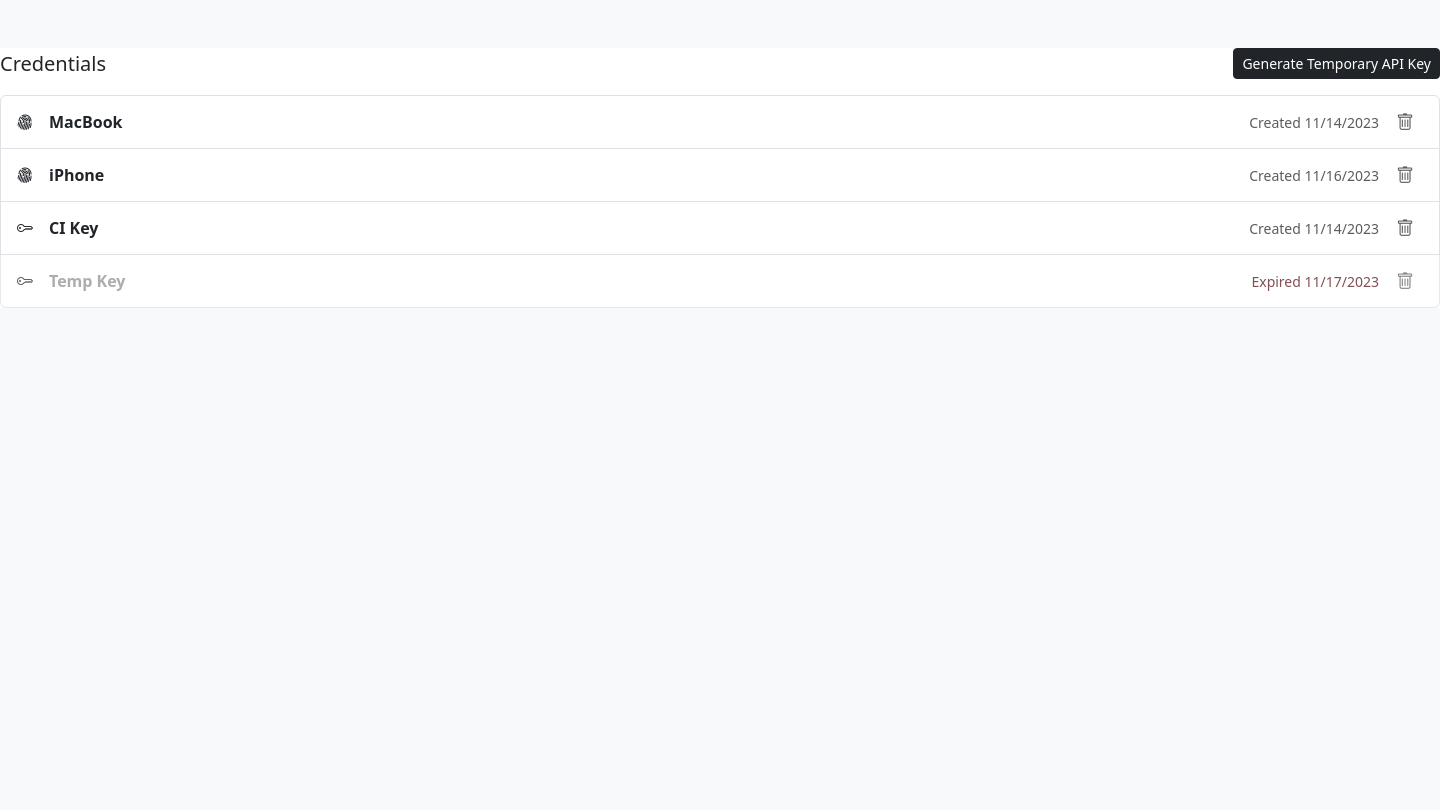
Test: AdminCredentialsSection › delete passkey › opens confirmation modal when delete button clicked
Click the button named "Delete passkey MacBook".
click(1405, 122)  # box [1387,104,1423,140]
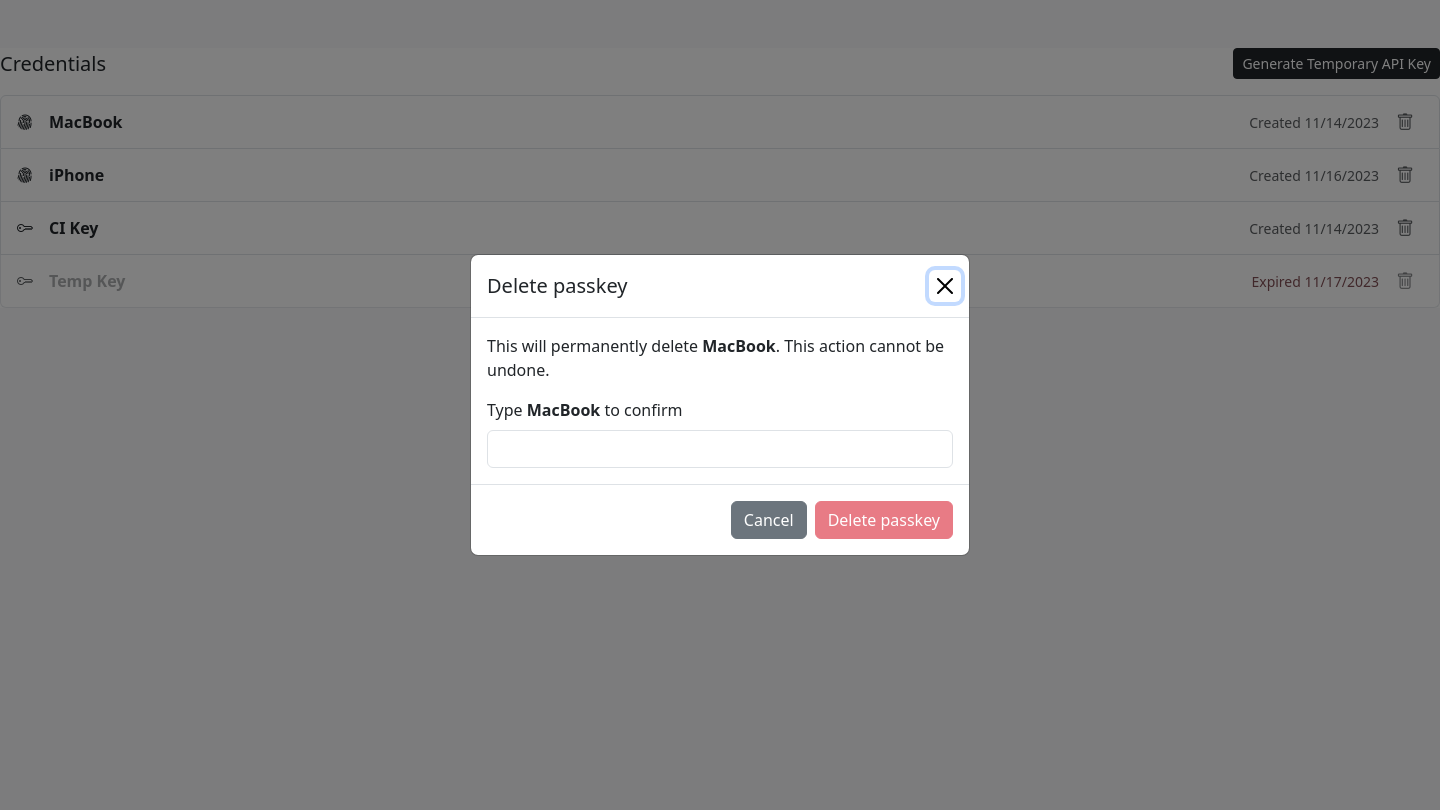
Expected: the dialog is shown, [470,254,970,556]
Expected: the heading "Delete passkey" is shown, [487,271,628,301]
